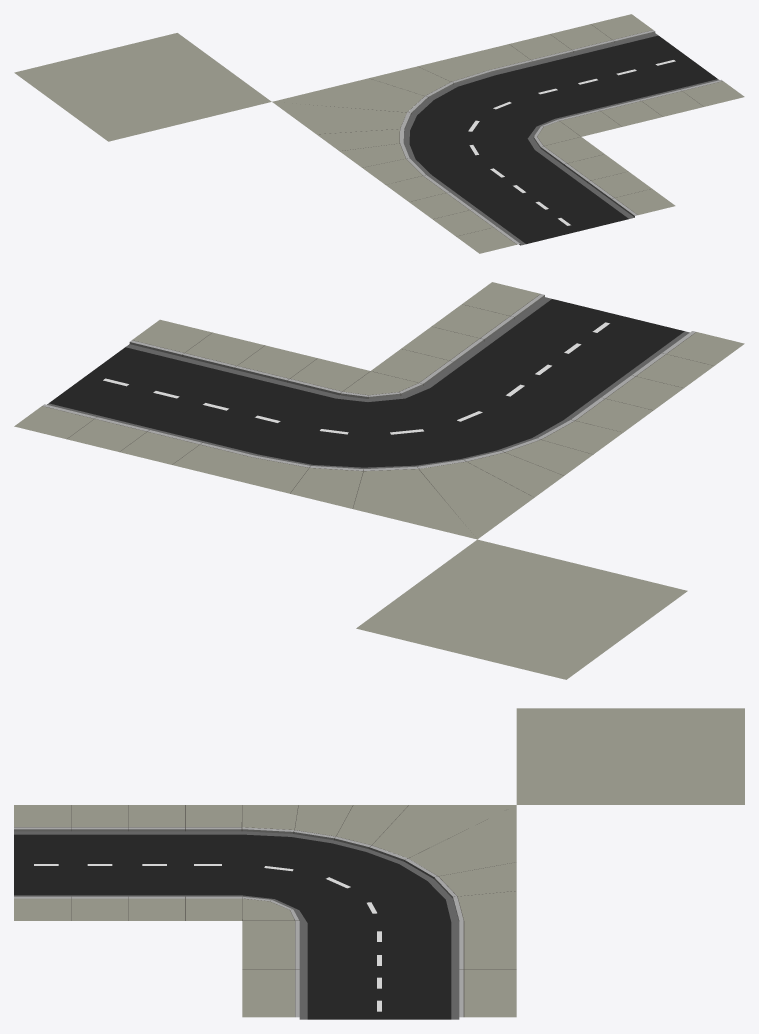
File: Road-L.fbx
3 views of the same model, one above another, from view 1: azimuth 30°, elevation 25°; view 2: azimuth 150°, elevation 25°; view 3: azimuth 270°, elevation 25° (orthographic). The views are drawn at different scales.
Visible parts, largest first — view 1: Sides, Road; view 2: Sides, Road; view 3: Sides, Road.
Part boxes in pixels (box(x1,y1,x2,y2)): Sides: box(14, 14, 744, 253); Road: box(403, 33, 719, 245); Sides: box(14, 282, 744, 679); Road: box(47, 297, 689, 468); Sides: box(14, 708, 744, 1017); Road: box(14, 831, 459, 1019).
Size of what is drawn, in the model's own units: 64 by 0.2059 by 64.
